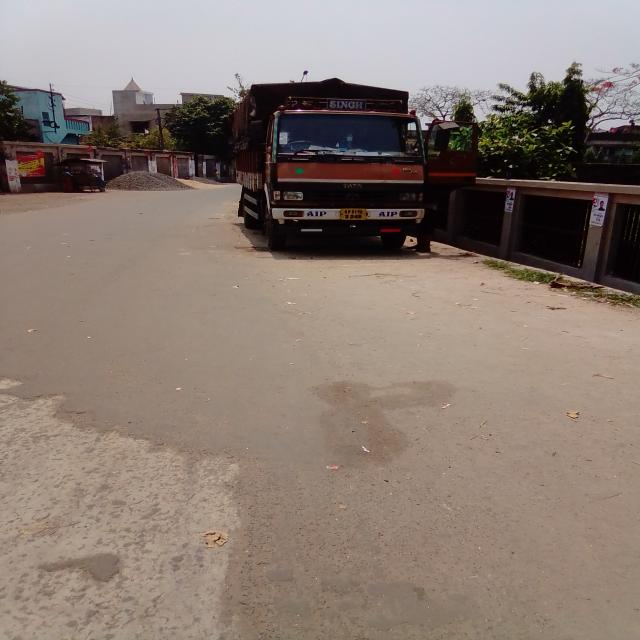Truck: (226, 80, 468, 248)
